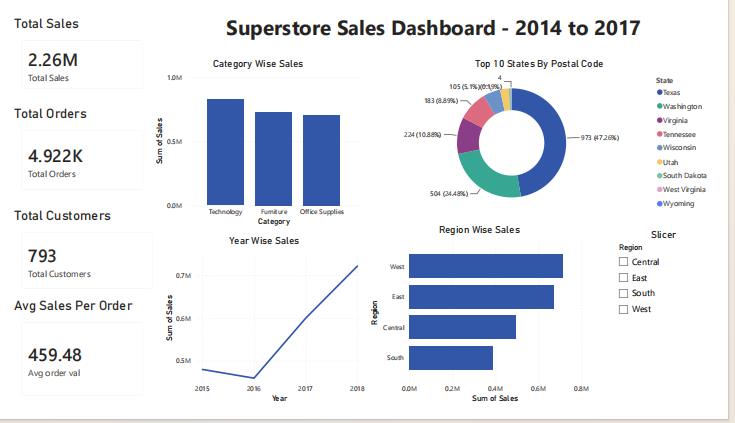

This screenshot's page, from the dashboard's own definition file:
{"tool":"powerbi","page":{"name":"Page 1","canvas":[1280,720],"ordinal":0},"visuals":[{"type":"columnChart","title":"Category Wise Sales","fields":{"Category":["Sales.Category"],"Y":["Sum(Sales.Sales)"]},"box":[255.6,87.1,384.4,310.5],"z":1000},{"type":"clusteredBarChart","title":"Region Wise Sales","fields":{"Category":["Sales.Region"],"Y":["Sum(Sales.Sales)"]},"box":[645.7,388.2,409,331.4],"z":2000},{"type":"lineChart","title":"Year Wise Sales","fields":{"Category":["Sales.Order Date.Variation.Date Hierarchy.Year","Sales.Order Date.Variation.Date Hierarchy.Quarter","Sales.Order Date.Variation.Date Hierarchy.Month","Sales.Order Date.Variation.Date Hierarchy.Day"],"Y":["Sum(Sales.Sales)"]},"box":[272.7,409,373,310.5],"z":3000},{"type":"slicer","title":" Slicer","fields":{"Values":["Sales.Region"]},"box":[1090.7,397.6,189.3,321.9],"z":4000},{"type":"donutChart","title":"Top 10 States By Postal Code","fields":{"Y":["CountNonNull(Sales.Postal Code)"],"Category":["Sales.State"]},"box":[640,87.1,640,287.8],"z":5000},{"type":"textbox","box":[255.6,0,1024.4,87.1],"z":6000},{"type":"cardVisual","title":"Total Orders","fields":{"Data":["Sales.Measure"]},"box":[0,174.2,255.6,170.4],"z":6001},{"type":"cardVisual","title":"Total Customers","fields":{"Data":["Sales.Measure 2"]},"box":[0,359.8,272.7,164.7],"z":6002},{"type":"cardVisual","title":"Total Sales","fields":{"Data":["Sales.Total Sales"]},"box":[0,11.4,255.6,149.6],"z":6003},{"type":"cardVisual","title":"Avg Sales Per Order","fields":{"Data":["Sales.Avg order val"]},"box":[0,524.5,255.6,195],"z":6004}]}

Visuals, with their boxes in screenshot pixels (x1, y1, x2, y2), scaled from the page's 1280x720 canvas onto the 735x423 screenshot:
"Category Wise Sales" columnChart: BBox(147, 51, 368, 234)
"Region Wise Sales" clusteredBarChart: BBox(371, 228, 606, 422)
"Year Wise Sales" lineChart: BBox(157, 240, 371, 422)
" Slicer" slicer: BBox(626, 234, 734, 422)
"Top 10 States By Postal Code" donutChart: BBox(368, 51, 734, 220)
textbox: BBox(147, 0, 734, 51)
"Total Orders" cardVisual: BBox(0, 102, 147, 202)
"Total Customers" cardVisual: BBox(0, 211, 157, 308)
"Total Sales" cardVisual: BBox(0, 7, 147, 95)
"Avg Sales Per Order" cardVisual: BBox(0, 308, 147, 422)
